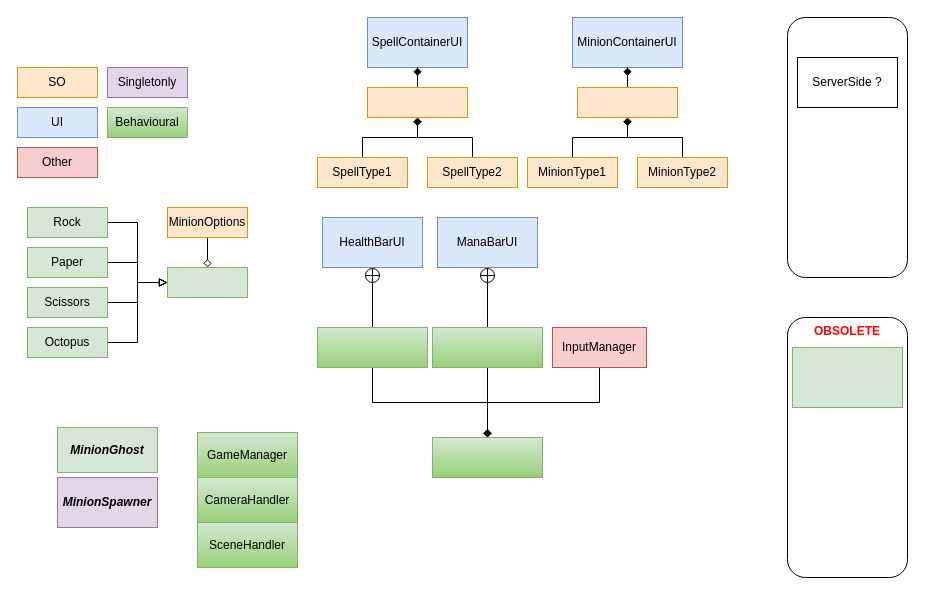
Image size: 925x595. Some labels were removed from this diagram. Here are the shapes that lost their labels. From the top down, the box of each, then its label:
(366, 86, 468, 118): SpellList
(576, 86, 678, 118): MinionList
(786, 16, 908, 278): Move in scene?
(166, 266, 248, 298): Minion
(316, 326, 428, 368): HealthManager
(432, 326, 542, 368): ManaManager
(792, 346, 902, 408): MinionSelect Controller
(432, 436, 542, 478): PlayerController
